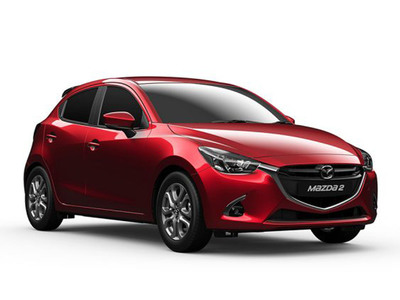sedan: (21, 74, 378, 253)
